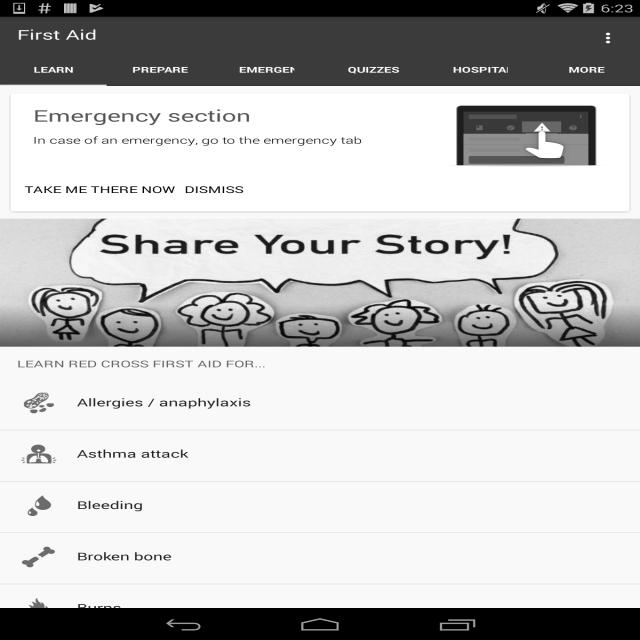Button: (20, 173, 180, 206), (180, 173, 248, 206)
ImageView: (0, 218, 640, 346), (445, 105, 607, 168), (589, 22, 631, 54), (17, 441, 60, 468), (17, 492, 60, 519), (17, 595, 60, 622), (17, 390, 60, 416), (17, 544, 60, 570)
TextView: (33, 105, 445, 128), (17, 357, 623, 371), (33, 134, 445, 147), (0, 54, 107, 86), (213, 54, 320, 86), (320, 54, 427, 86), (533, 54, 640, 86), (107, 54, 213, 86), (427, 54, 533, 86), (77, 395, 251, 411), (77, 446, 188, 462), (17, 25, 97, 45), (77, 549, 172, 565), (77, 498, 143, 513), (76, 600, 122, 616)
